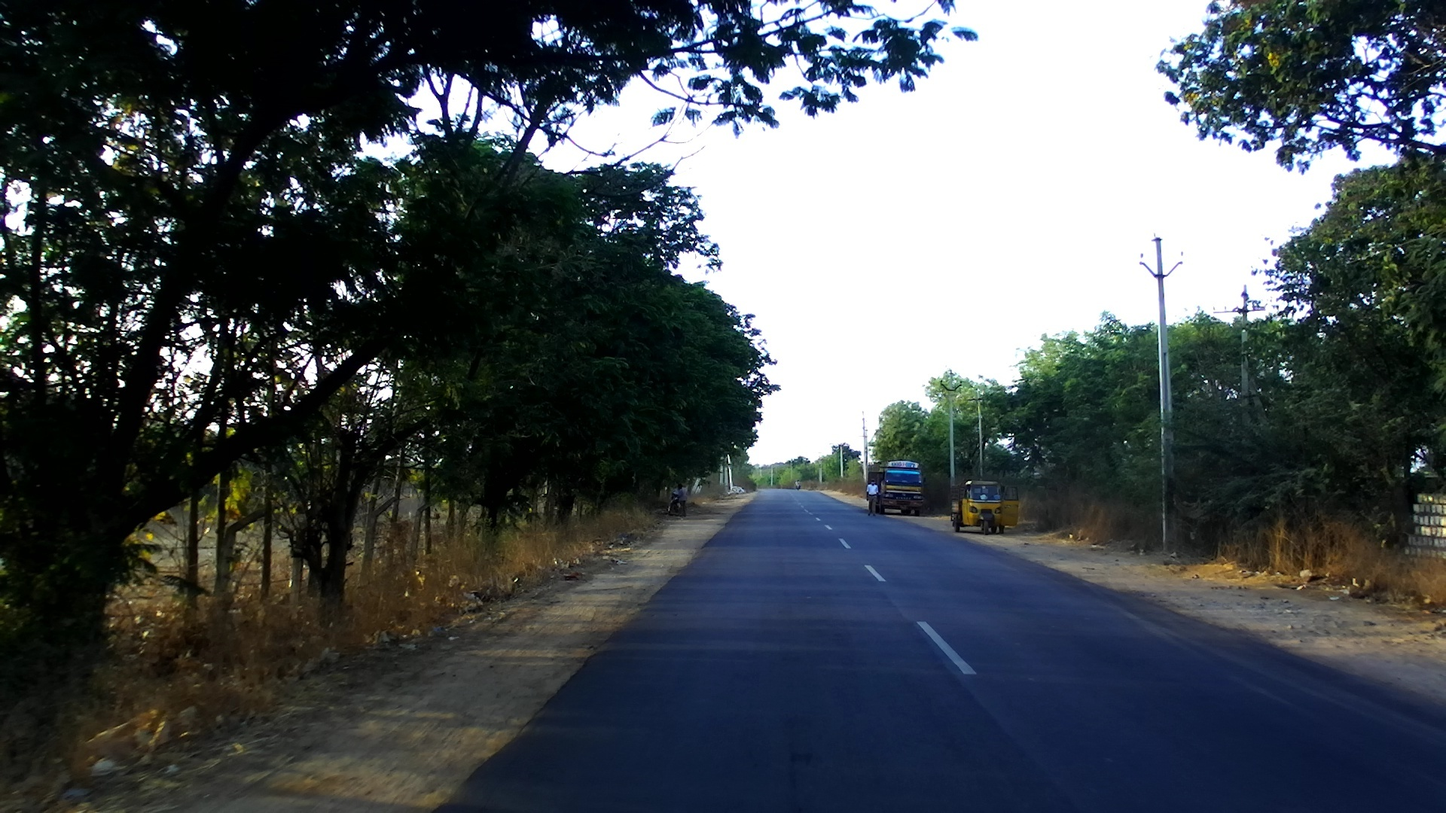autorickshaw: (946, 476, 1017, 535)
motorcycle: (795, 485, 804, 492)
person: (664, 483, 692, 517), (667, 483, 688, 513), (865, 478, 880, 518)
rider: (794, 475, 801, 489)
truck: (862, 461, 926, 516)
